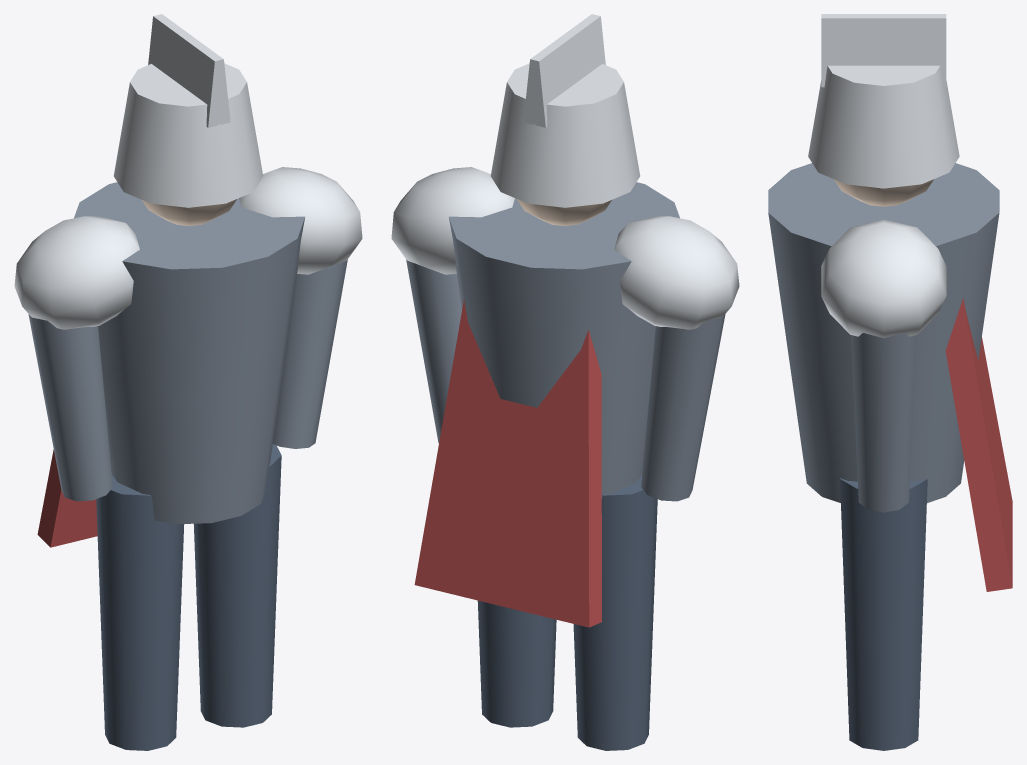
Rendered from bot_soldier.glb.
The picture shows the model from 3 angles, left to right: view 1: azimuth 30°, elevation 25°; view 2: azimuth 150°, elevation 25°; view 3: azimuth 270°, elevation 25°; orthographic projection.
Visible parts, largest first — view 1: armor_torso, greaves, helmet, arms, pauldrons, cloak, head; view 2: cloak, armor_torso, greaves, helmet, pauldrons, arms, head; view 3: armor_torso, helmet, greaves, pauldrons, arms, cloak, head.
Boxes of the visible parts, box(x1,y1,x2,y2) form: armor_torso: box(74, 182, 304, 524); greaves: box(96, 444, 281, 750); helmet: box(113, 14, 263, 207); arms: box(28, 259, 347, 501); pauldrons: box(14, 167, 362, 329); cloak: box(37, 449, 97, 547); head: box(142, 199, 236, 226); cloak: box(414, 299, 601, 627); armor_torso: box(449, 182, 679, 499); greaves: box(477, 475, 657, 750); helmet: box(490, 14, 640, 207); pauldrons: box(391, 167, 739, 329); arms: box(406, 259, 725, 501); head: box(517, 199, 611, 226); armor_torso: box(768, 163, 999, 502); helmet: box(808, 14, 959, 188); greaves: box(840, 478, 927, 750); pauldrons: box(821, 219, 946, 338); arms: box(851, 333, 916, 512); cloak: box(945, 298, 1012, 591); head: box(833, 179, 933, 206).
Size of the model in its own units: 1.18 by 2.33 by 0.7421.
